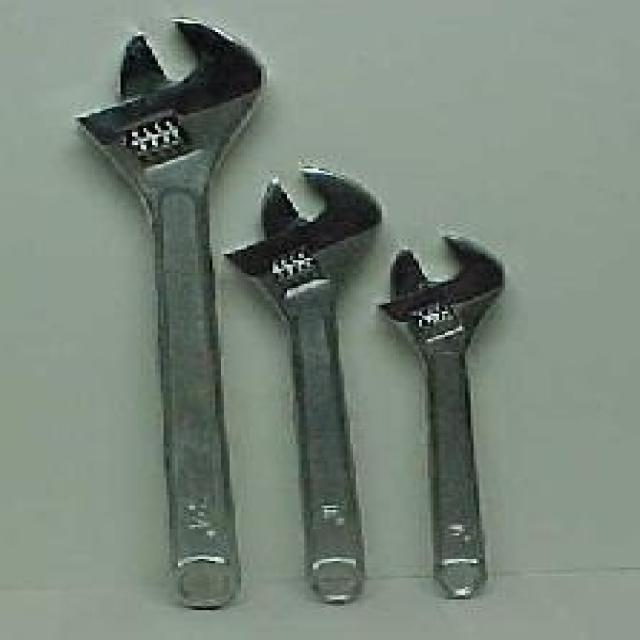wrench: (57, 13, 263, 619), (222, 159, 406, 609), (379, 228, 528, 602)
